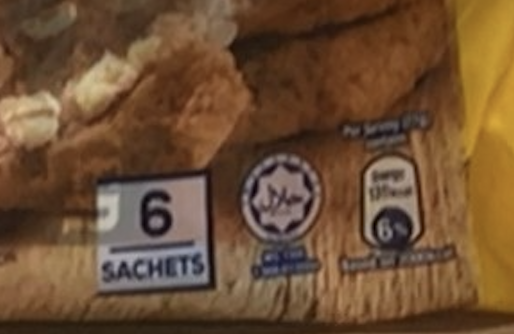halal: (255, 176, 310, 223)
